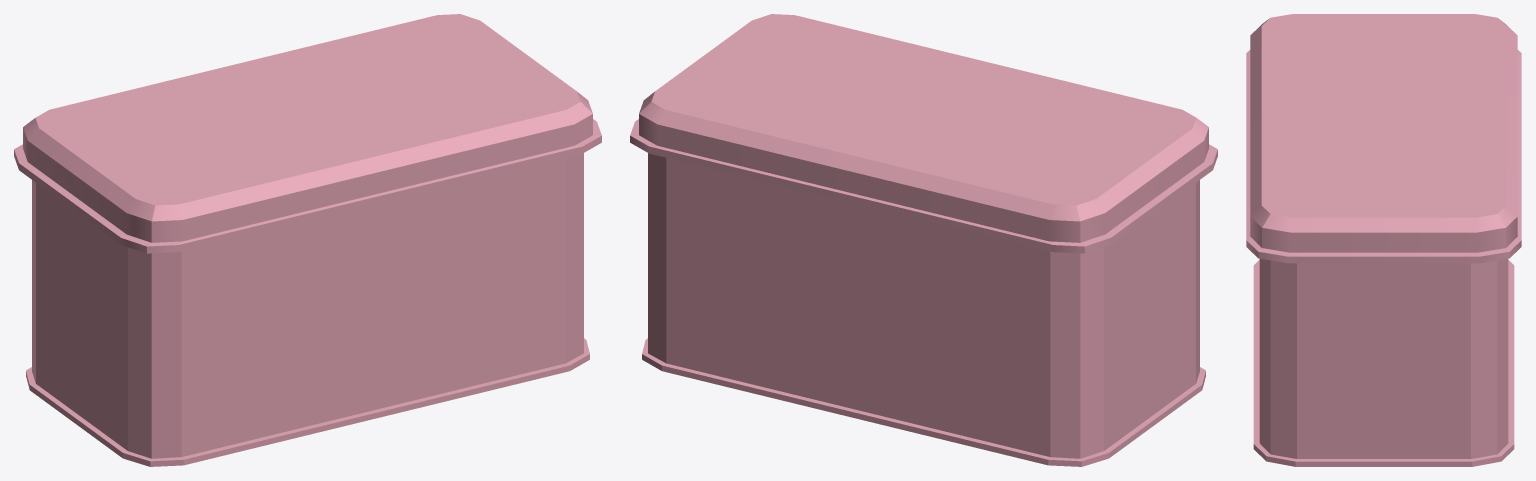
Rendered from TeaTin.fbx.
3 views of the same model, side by side, from view 1: azimuth 30°, elevation 25°; view 2: azimuth 150°, elevation 25°; view 3: azimuth 270°, elevation 25° (orthographic). The views are drawn at different scales.
Parts seen in each view (by area): view 1: TeaTin; view 2: TeaTin; view 3: TeaTin.
Part boxes in pixels (x1,y1,x2,y2): TeaTin: (14,14,601,466); TeaTin: (630,14,1217,466); TeaTin: (1246,14,1521,466).
Bounding box in the file's own units: 28.01 × 14.51 × 14.85.
